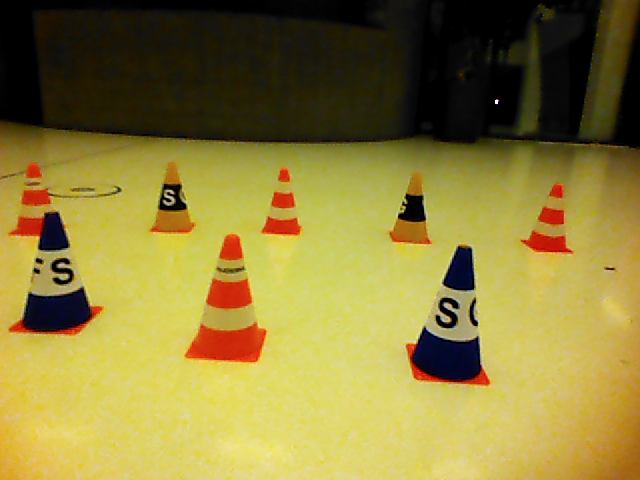bluecone: (412, 244, 483, 379), (22, 210, 95, 331)
orangeconesmall: (197, 236, 258, 358), (527, 183, 566, 249), (265, 168, 299, 231), (15, 164, 44, 232)
yellowcone: (154, 163, 192, 229), (393, 173, 429, 241)
